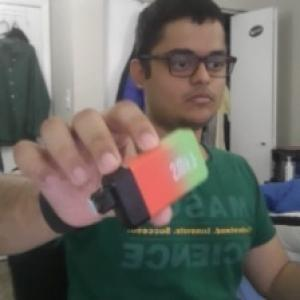Swift-E-Ciggirate: (87, 126, 210, 228)
